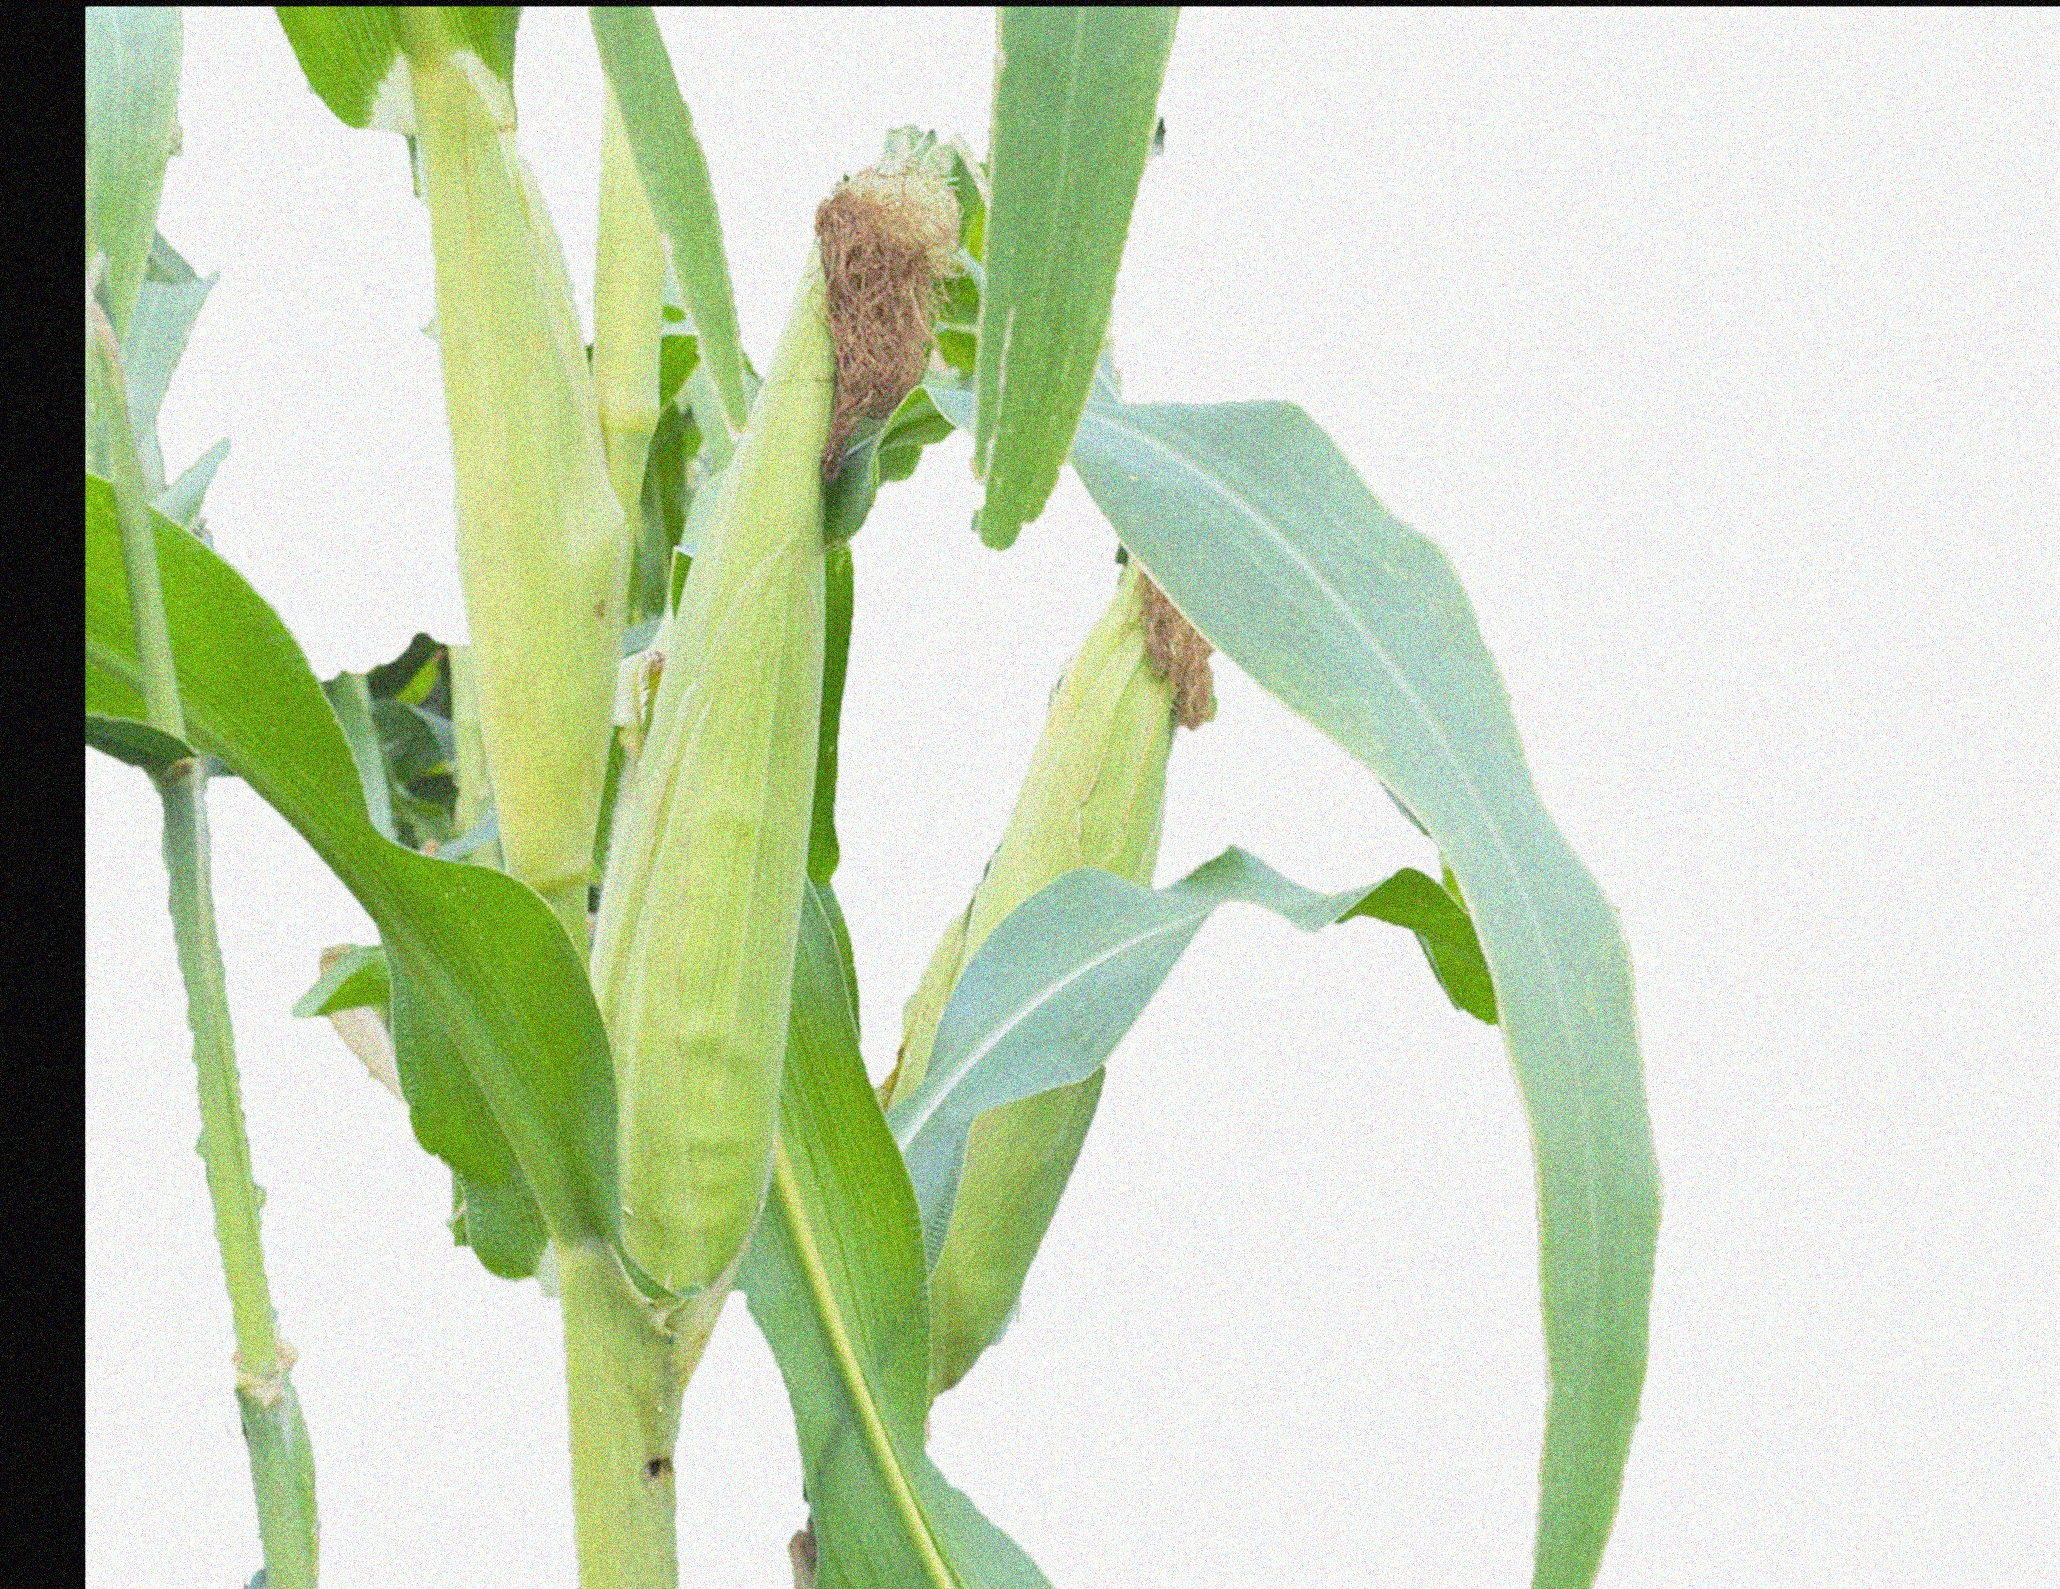corn_plant: (850, 432, 1282, 1467), (578, 134, 920, 1429), (362, 23, 618, 1265)
